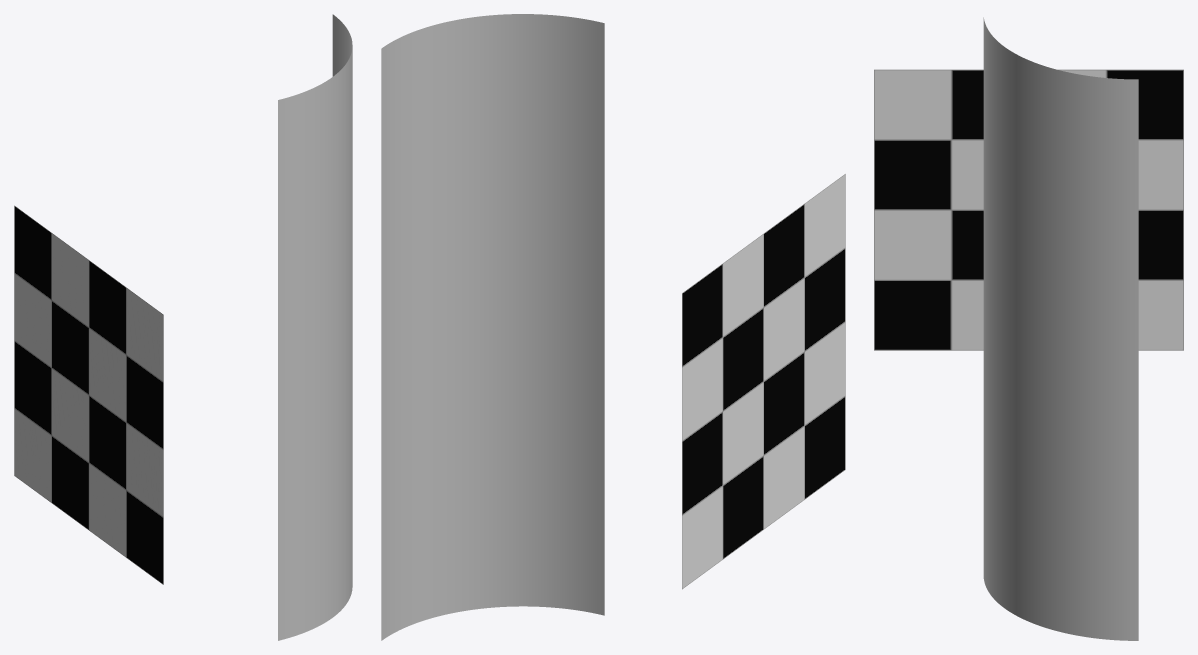
Rendered from mirrors2.glb.
The picture shows the model from 3 angles, left to right: view 1: azimuth 30°, elevation 25°; view 2: azimuth 150°, elevation 25°; view 3: azimuth 270°, elevation 25°; orthographic projection. The views are drawn at different scales.
Parts seen in each view (by area): view 1: Cylinder.001, Plane.001; view 2: Cylinder.001, Plane.001; view 3: Cylinder.001, Plane.001.
Part boxes in pixels (box(x1,y1,x2,y2)): Cylinder.001: box(278, 14, 352, 640); Plane.001: box(14, 205, 163, 584); Cylinder.001: box(381, 14, 604, 640); Plane.001: box(682, 174, 845, 589); Cylinder.001: box(983, 17, 1138, 640); Plane.001: box(874, 69, 1183, 350).
Bounding box in the file's own units: 2.29 × 4 × 2.
Materials: 2 (1 with a texture image).
